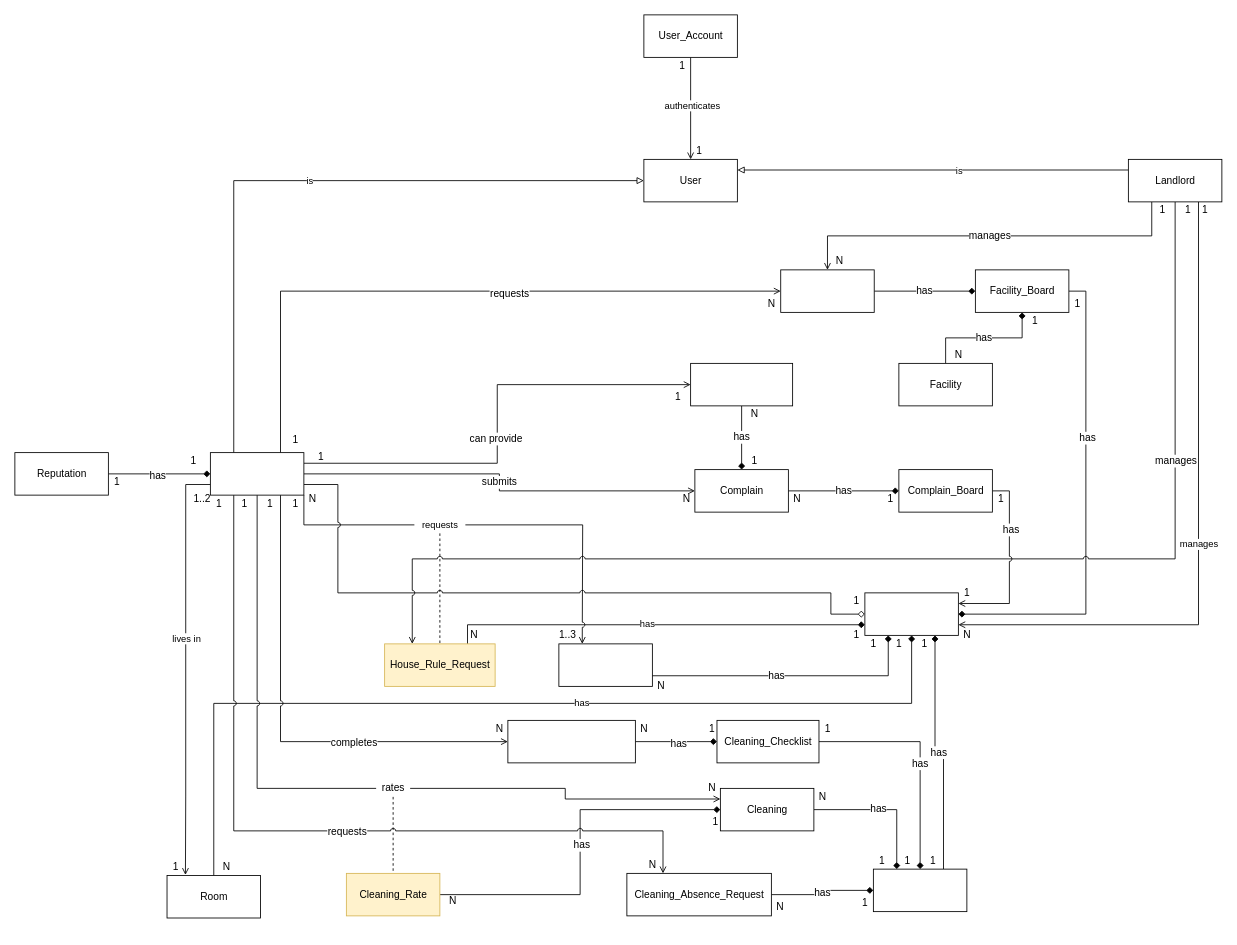
Image size: 1237x945. Some labels were removed from this diagram. Each missing label, with the centre of its shape:
Cleaning_Checklist_Step: the point at 571,741
Cleaning_Rota: the point at 920,890
Complain_Feedback: the point at 741,384
Facility_Request: the point at 827,290
House: the point at 911,613
House_Rule: the point at 605,664
Tenant: the point at 257,473
